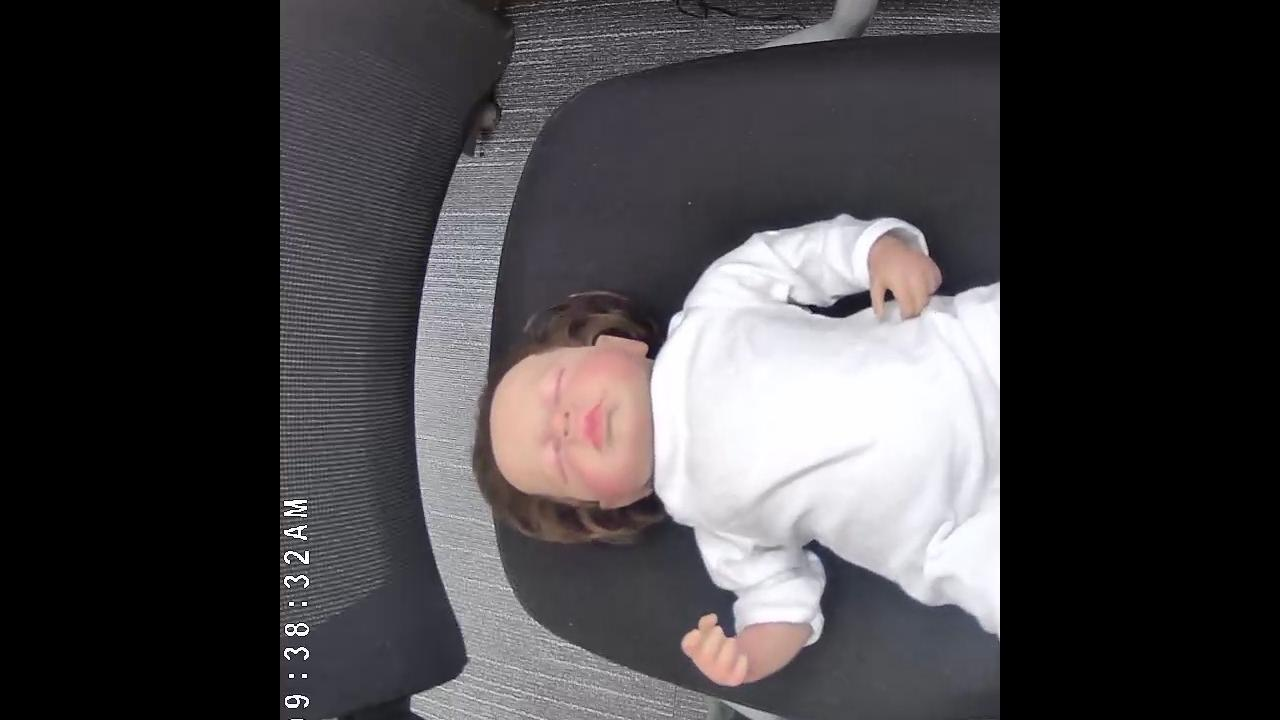hand: (867, 232, 943, 322), (679, 614, 758, 686)
